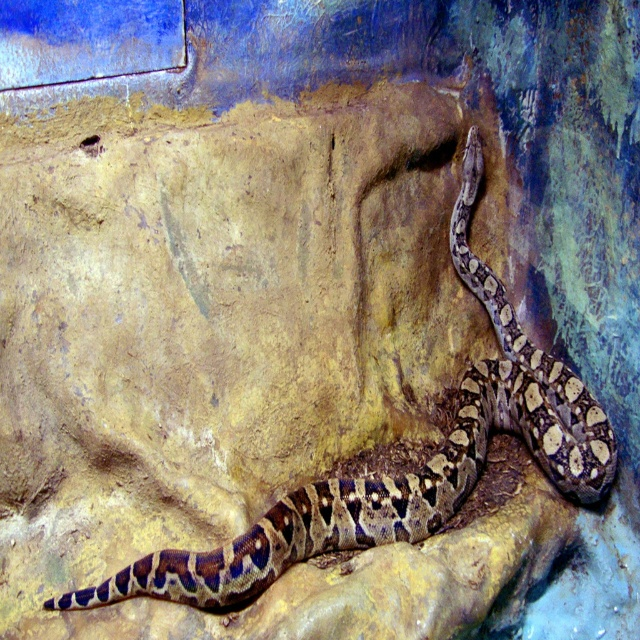Snake: (44, 123, 618, 614)
